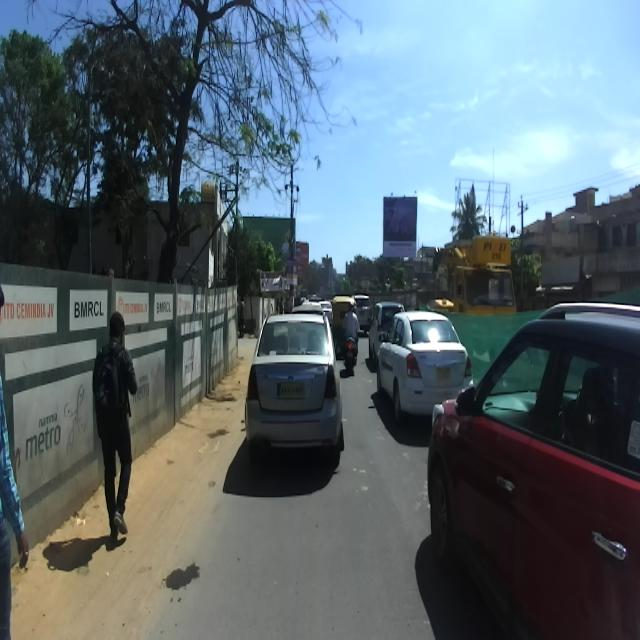car ahead at: (424, 292, 640, 640), (245, 308, 344, 459)
person ahead at: (87, 312, 143, 546)
